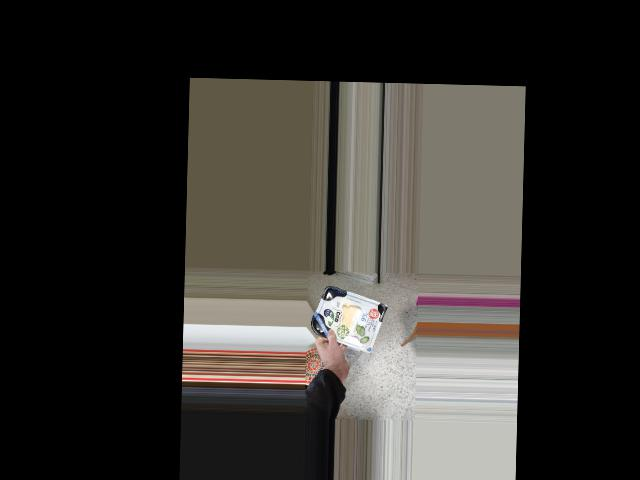cheese: (317, 294, 378, 343)
